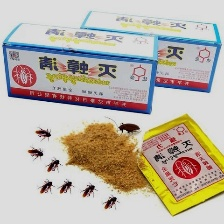book: (0, 18, 160, 118), (60, 7, 224, 96)
insecticide: (133, 110, 224, 219)
